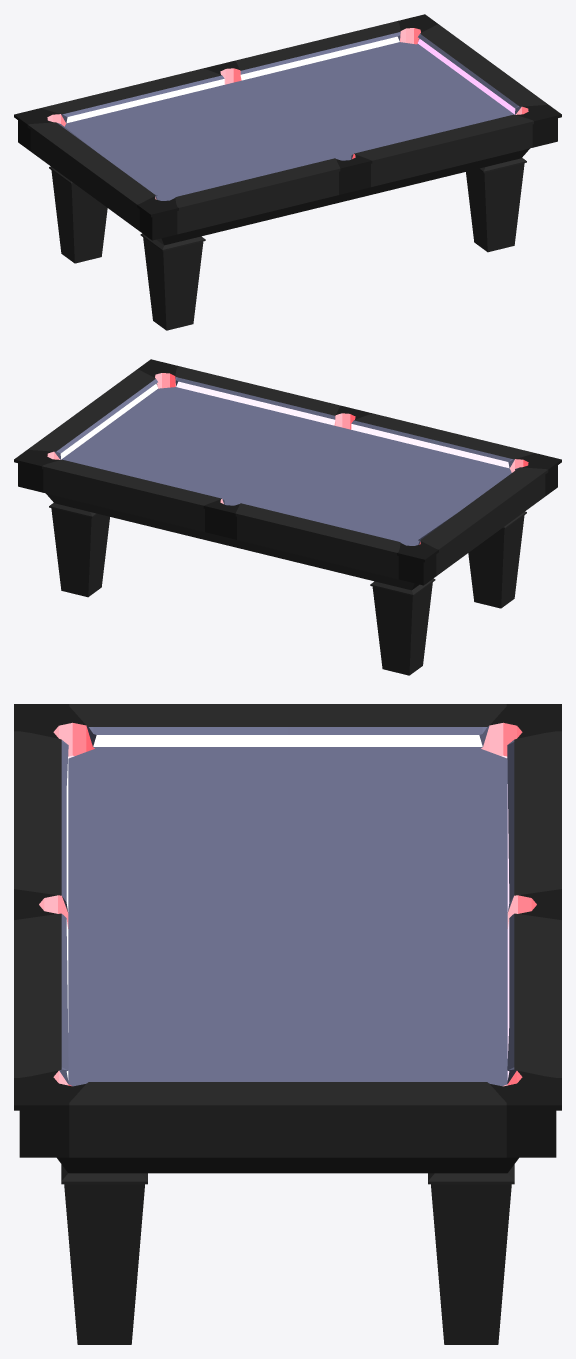
Rendered from pooltable.glb.
3 views of the same model, one above another, from view 1: azimuth 30°, elevation 25°; view 2: azimuth 150°, elevation 25°; view 3: azimuth 270°, elevation 25° (orthographic). The views are drawn at different scales.
Parts seen in each view (by area): view 1: PoolTable; view 2: PoolTable; view 3: PoolTable.
Part boxes in pixels (x1,y1,x2,y2): PoolTable: (14, 14, 561, 330); PoolTable: (14, 359, 561, 675); PoolTable: (14, 704, 561, 1344).
Bounding box in the file's own units: 2.6 × 0.8174 × 1.5.
